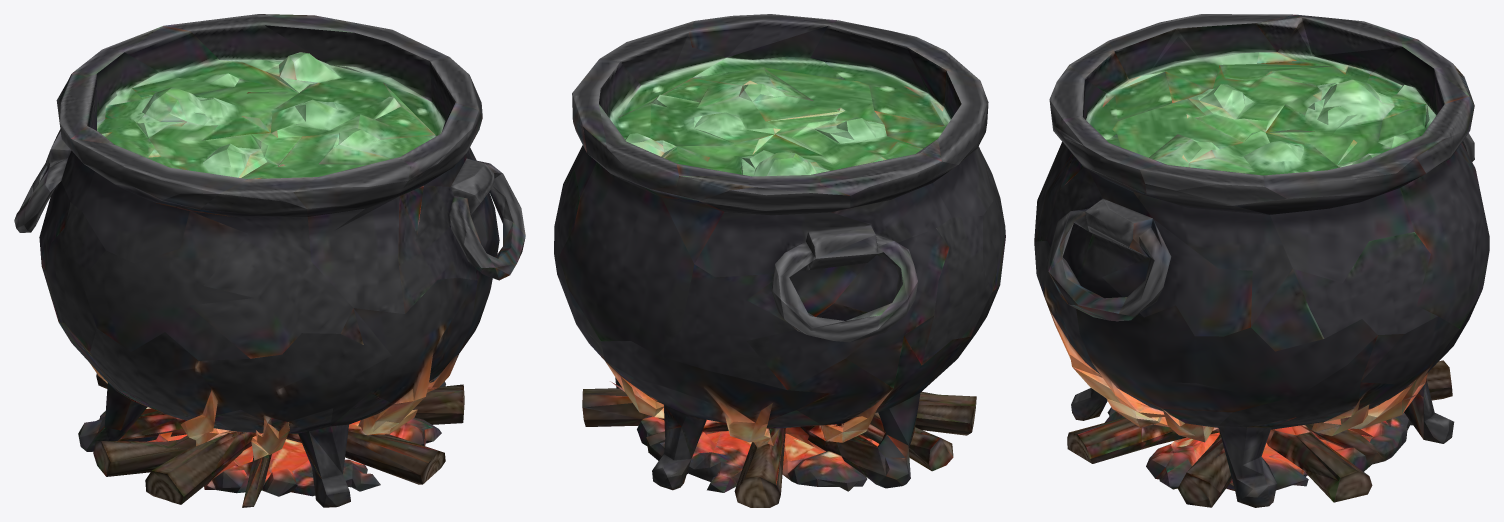
The model's file is cauldron_3d.glb.
The picture shows the model from 3 angles, left to right: view 1: azimuth 30°, elevation 25°; view 2: azimuth 150°, elevation 25°; view 3: azimuth 270°, elevation 25°; orthographic projection.
Visible parts, largest first — view 1: Mesh_0; view 2: Mesh_0; view 3: Mesh_0.
Boxes of the visible parts, x1,y1,x2,y2 form: Mesh_0: [14, 14, 525, 507]; Mesh_0: [554, 14, 1005, 507]; Mesh_0: [1034, 14, 1489, 507].
Bounding box in the file's own units: 1.16 × 0.9375 × 1.16.
1 material, 1 textured.
